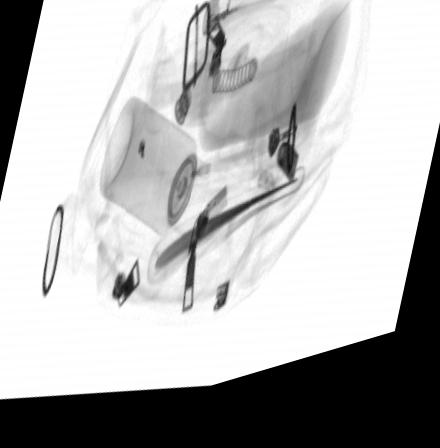Lighter: (200, 0, 282, 48)
Sprayer: (100, 102, 211, 249)
